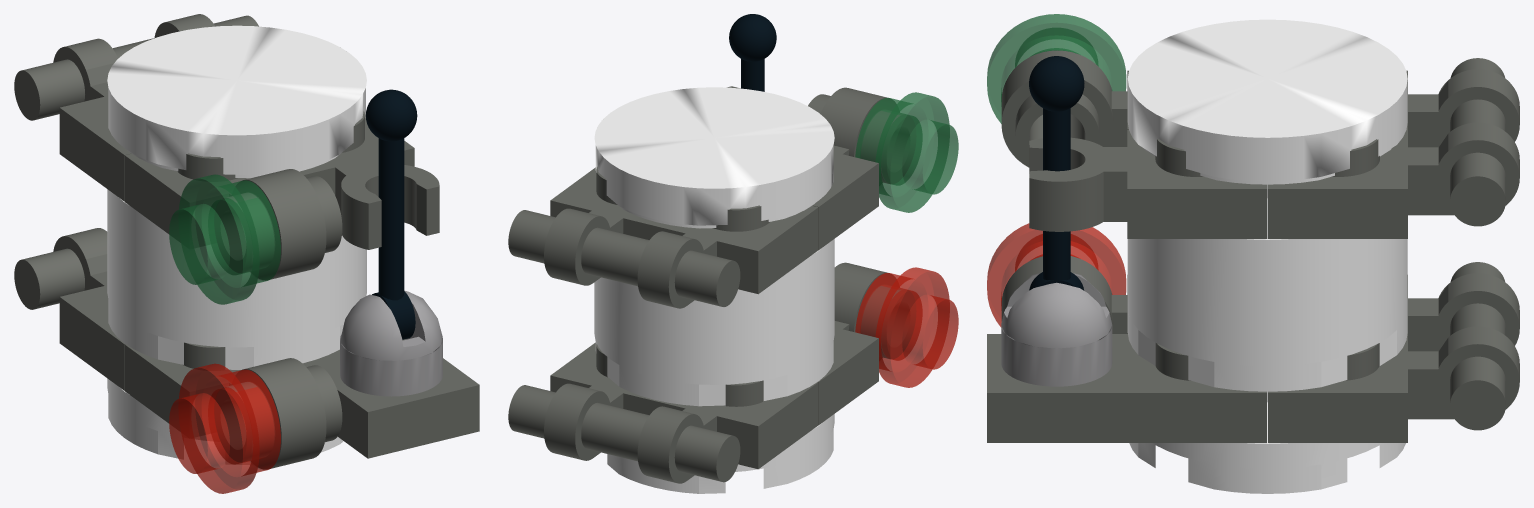
The model's file is minikit.glb.
3 views of the same model, side by side, from view 1: azimuth 30°, elevation 25°; view 2: azimuth 150°, elevation 25°; view 3: azimuth 270°, elevation 25° (orthographic). The views are drawn at different scales.
Parts seen in each view (by area): view 1: minikit; view 2: minikit; view 3: minikit.
Part boxes in pixels (box(x1,y1,x2,y2)): minikit: box(14, 14, 479, 493); minikit: box(508, 14, 958, 493); minikit: box(987, 14, 1519, 493).
Bounding box in the file's own units: 0.4583 × 0.637 × 0.7576.
